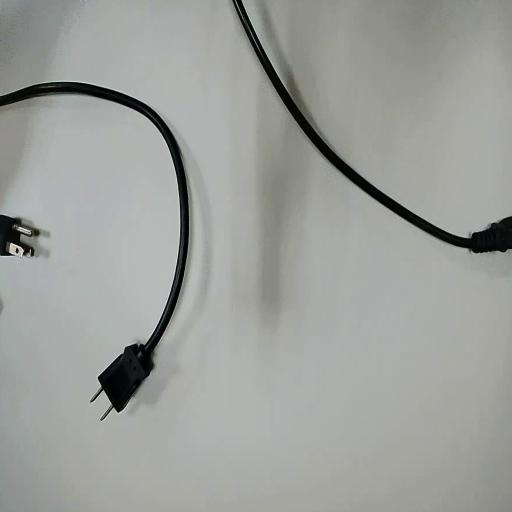wire: (233, 0, 511, 252), (0, 83, 188, 410)
